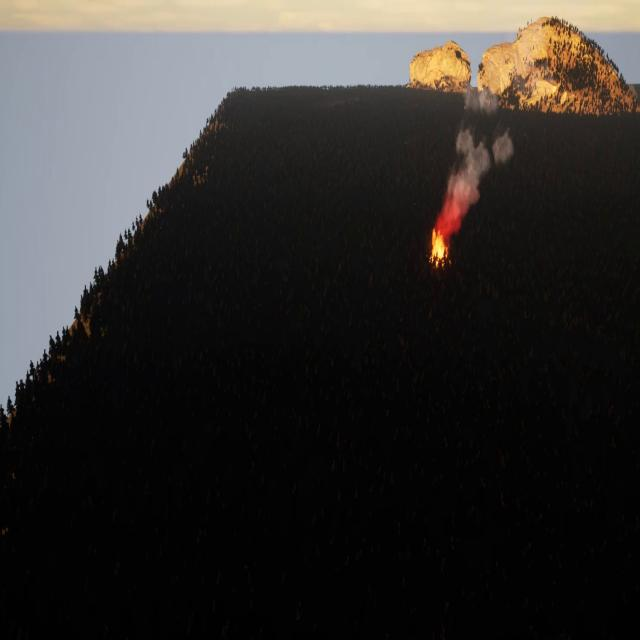fire: (431, 232, 448, 267)
smoke: (438, 77, 512, 232)
